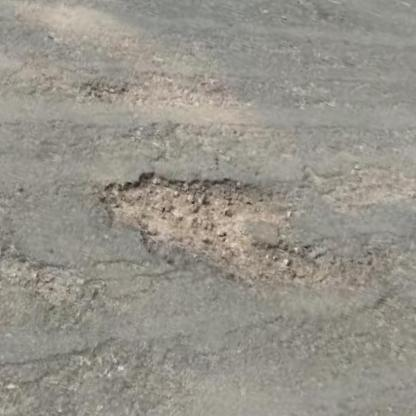pothole: (87, 132, 355, 316)
